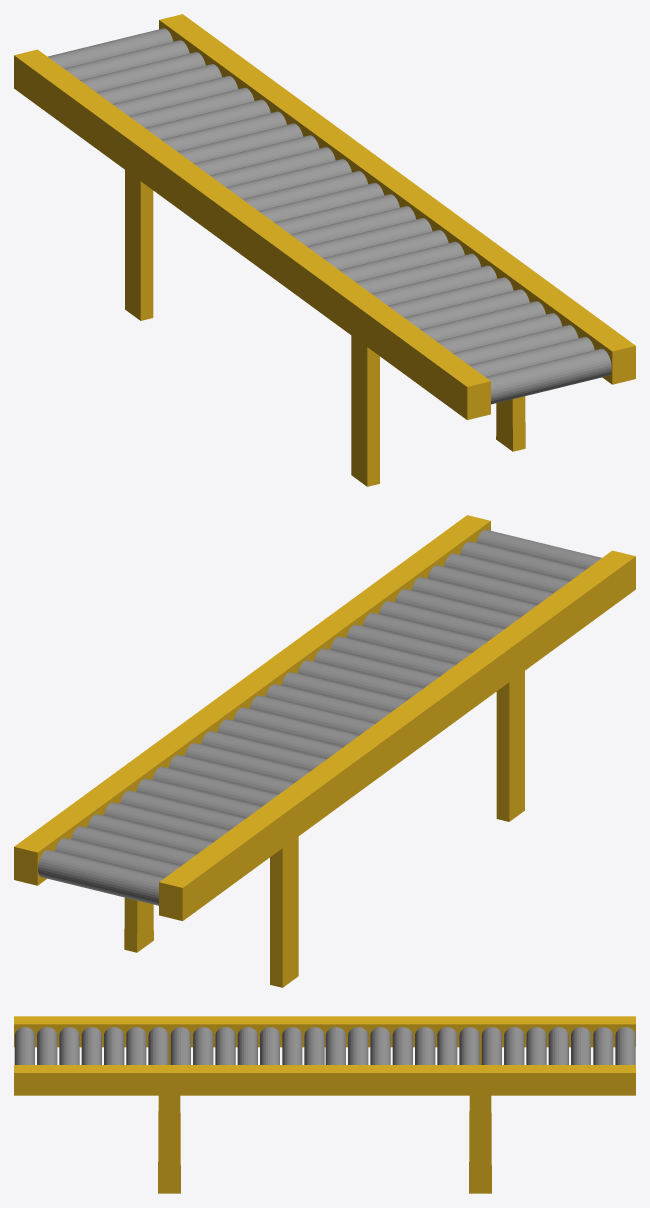
Rendered from Conveyor.fbx.
3 renders of one model, top to bottom at view 1: azimuth 30°, elevation 25°; view 2: azimuth 150°, elevation 25°; view 3: azimuth 270°, elevation 25°, orthographic. The views are drawn at different scales.
Parts seen in each view (by area): view 1: Cube.005; view 2: Cube.005; view 3: Cube.005.
Part boxes in pixels (<box>): Cube.005: <box>14,14,635,486</box>; Cube.005: <box>14,515,635,987</box>; Cube.005: <box>14,1016,635,1193</box>.
Size of the model in its own units: 161 by 163 by 751.
